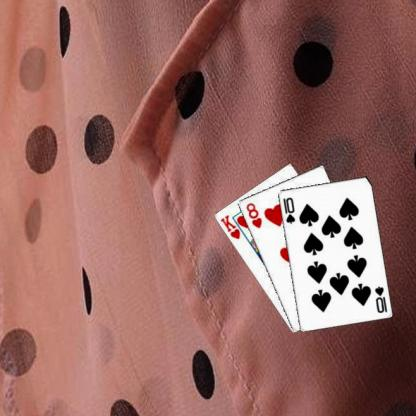10S: (372, 283, 388, 314), (280, 195, 296, 225)
8H: (243, 200, 263, 229)
KH: (217, 212, 241, 240)
